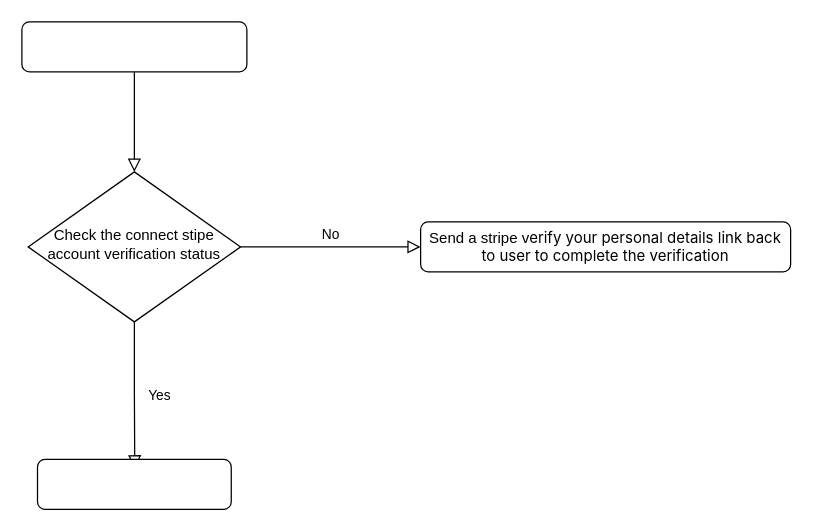
Image size: 813x531. Some labels were removed from this diagram. Each missing label, with the box of its shape:
Make a payout: (21, 21, 247, 72)
Release the payment: (36, 458, 231, 509)
